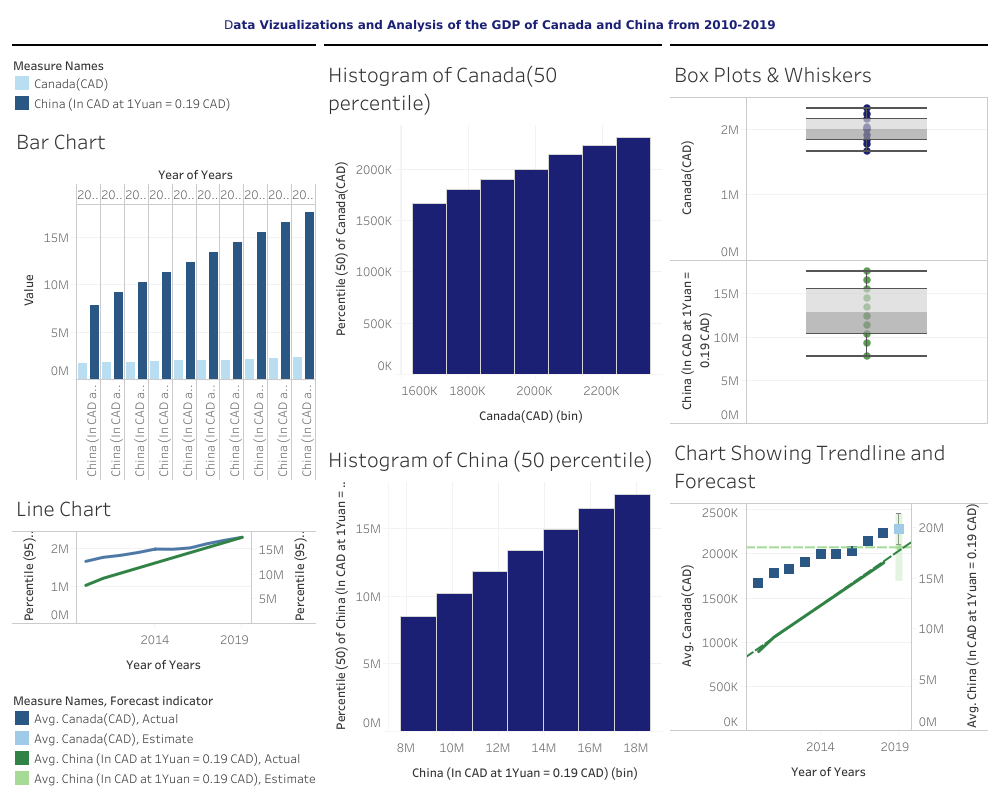

The page's visual inventory and layout, read from the dashboard file:
{"tool":"tableau","page":{"name":"China & Canada GDP 2010-2019","canvas":[1000,800],"ordinal":0},"visuals":[{"type":"text","box":[8,8,984,32]},{"type":"blank","box":[8,40,312,10]},{"type":"blank","box":[320,40,346,10]},{"type":"blank","box":[666,40,326,10]},{"type":"legend","title":"Bar Chart","param":"[federated.0kih80a1v4w2o2104mczq1896pm7].[:Measure Names]","box":[8,50,312,66]},{"type":"worksheet","title":"Histogram of Canada(50 percentile) ","mark":"Automatic","rows":["Canada(CAD)"],"cols":["Canada(CAD) (bin)"],"box":[320,50,346,385]},{"type":"worksheet","title":"Box Plots & Whiskers","mark":"Circle","rows":["Canada(CAD)","China (In CAD at 1Yuan = 0.19 CAD)"],"box":[666,50,326,379.5]},{"type":"worksheet","title":"Bar Chart","mark":"Bar","cols":["Years"],"box":[8,116,312,367]},{"type":"worksheet","title":"Chart Showing Trendline and Forecast","mark":"Automatic","rows":["Canada(CAD)","China (In CAD at 1Yuan = 0.19 CAD)"],"cols":["Years"],"box":[666,429.5,326,362.5]},{"type":"worksheet","title":"Histogram of China (50 percentile)","mark":"Automatic","rows":["China (In CAD at 1Yuan = 0.19 CAD)"],"cols":["China (In CAD at 1Yuan = 0.19 CAD) (bin)"],"box":[320,435,346,357]},{"type":"worksheet","title":"Line Chart (95 percentile)","mark":"Automatic","rows":["Canada(CAD)","China (In CAD at 1Yuan = 0.19 CAD)"],"cols":["Years"],"box":[8,483,312,203]},{"type":"legend","title":"Chart Showing Trendline and Forecast","param":"[federated.0kih80a1v4w2o2104mczq1896pm7].[:Measure Names]\n[federated.0kih80a1v4w","box":[8,686,312,106]}]}

Visuals, with their boxes in screenshot pixels (x1, y1, x2, y2), scaled from the page's 1000x800 canvas onto the 999x799 screenshot:
text: [left=8, top=8, right=991, bottom=40]
blank: [left=8, top=40, right=320, bottom=50]
blank: [left=320, top=40, right=665, bottom=50]
blank: [left=665, top=40, right=991, bottom=50]
"Bar Chart" legend: [left=8, top=50, right=320, bottom=116]
"Histogram of Canada(50 percentile) " worksheet: [left=320, top=50, right=665, bottom=434]
"Box Plots & Whiskers" worksheet (Circle marks): [left=665, top=50, right=991, bottom=429]
"Bar Chart" worksheet (Bar marks): [left=8, top=116, right=320, bottom=482]
"Chart Showing Trendline and Forecast" worksheet: [left=665, top=429, right=991, bottom=791]
"Histogram of China (50 percentile)" worksheet: [left=320, top=434, right=665, bottom=791]
"Line Chart (95 percentile)" worksheet: [left=8, top=482, right=320, bottom=685]
"Chart Showing Trendline and Forecast" legend: [left=8, top=685, right=320, bottom=791]
